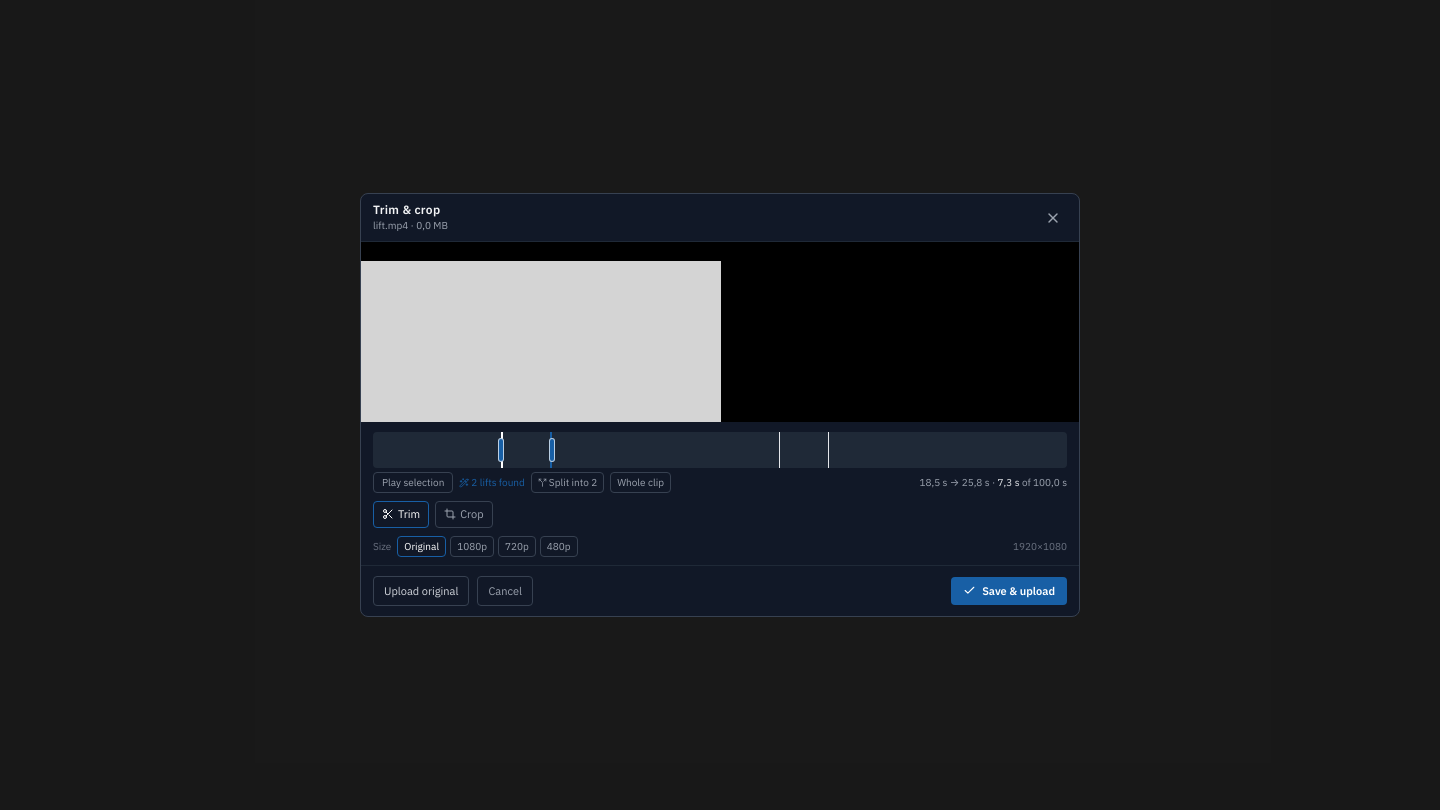
Scenario: ClipEditor › offers a split when a clip holds a set of singles
The width and height of the screenshot is (1440, 810).
expect the text "2 lifts found" is shown: met, box [459,475,525,490]
Click the button "Split into 2": click(567, 482) [531,472,604,493]
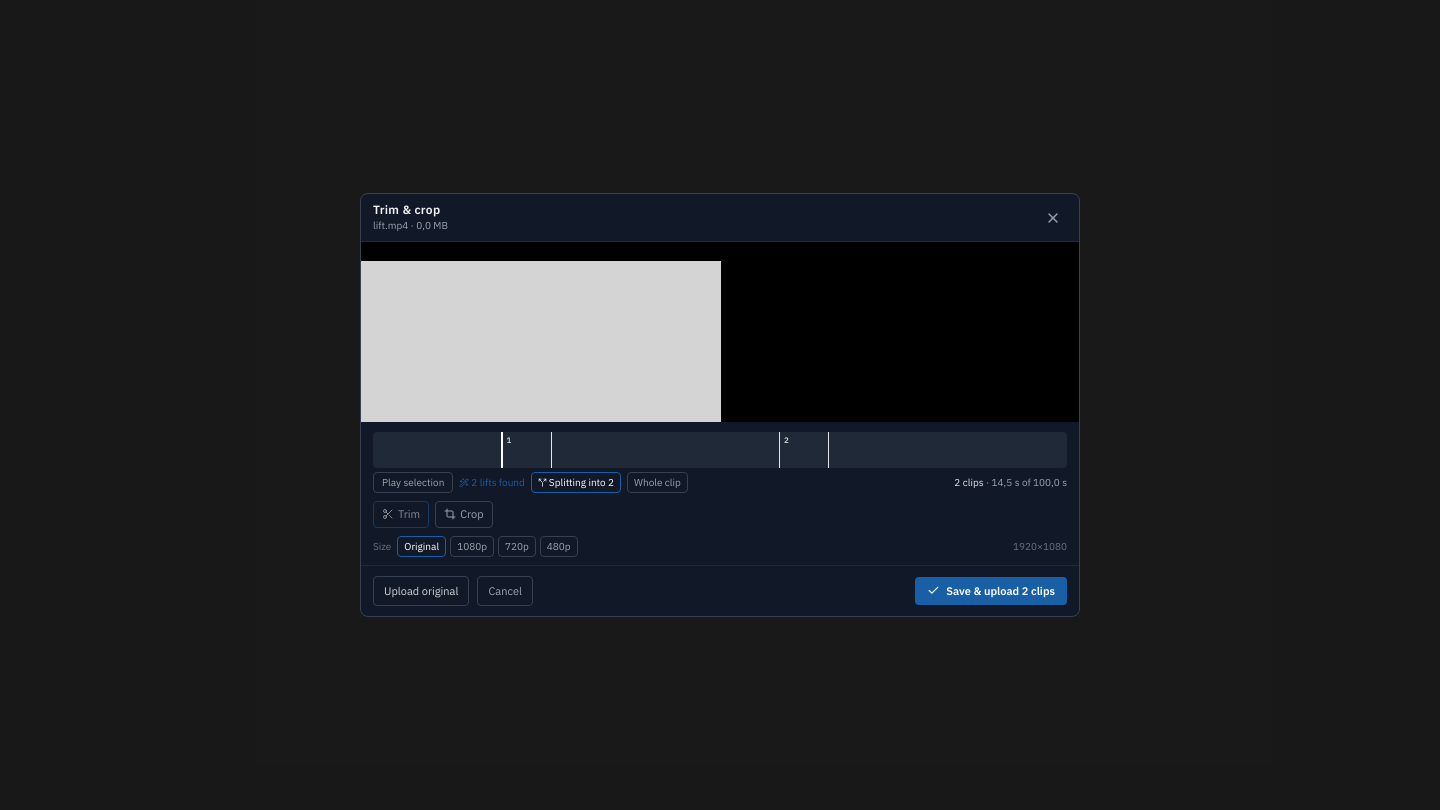
expect the button "Save & upload 2 clips" is shown: met, box [915,576,1067,605]
expect the text "2 clips" is shown: met, box [954,476,984,489]
